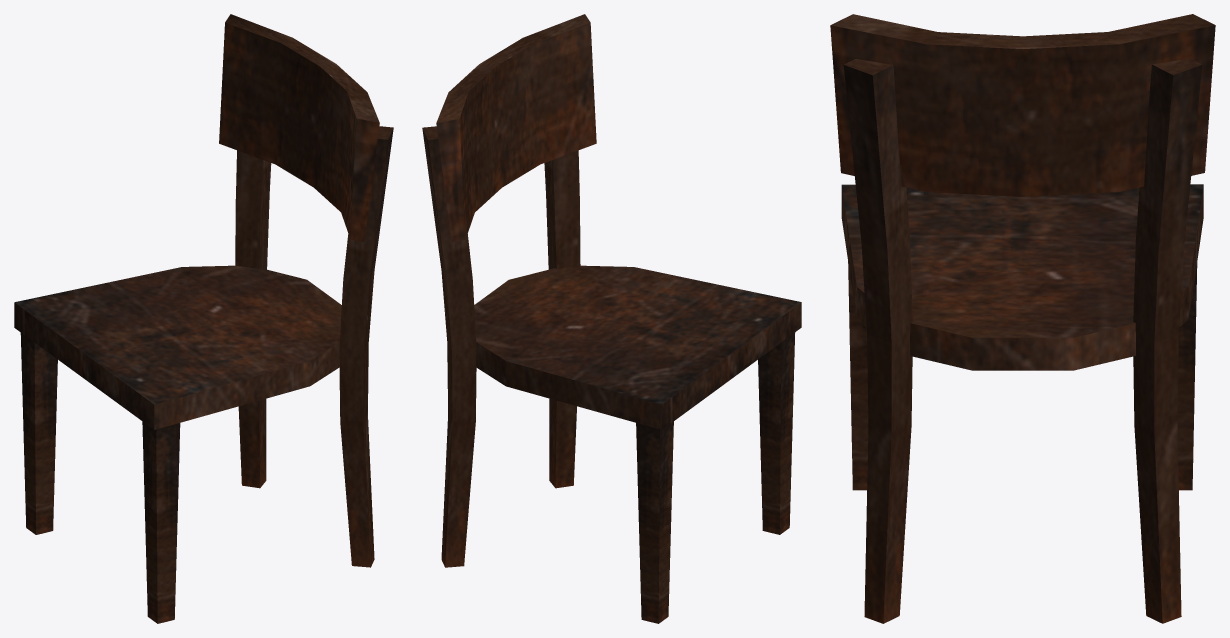
The model's file is prop_chair.obj.
3 views of the same model, side by side, from view 1: azimuth 30°, elevation 25°; view 2: azimuth 150°, elevation 25°; view 3: azimuth 270°, elevation 25° (orthographic). The views are drawn at different scales.
Visible parts, largest first — view 1: Props_Chair; view 2: Props_Chair; view 3: Props_Chair.
Part boxes in pixels (box(x1,y1,x2,y2)): Props_Chair: box(14, 14, 393, 623); Props_Chair: box(422, 14, 801, 623); Props_Chair: box(830, 14, 1215, 623).
Bounding box in the file's own units: 0.5376 × 0.9293 × 0.5491.
1 material, 1 textured.
